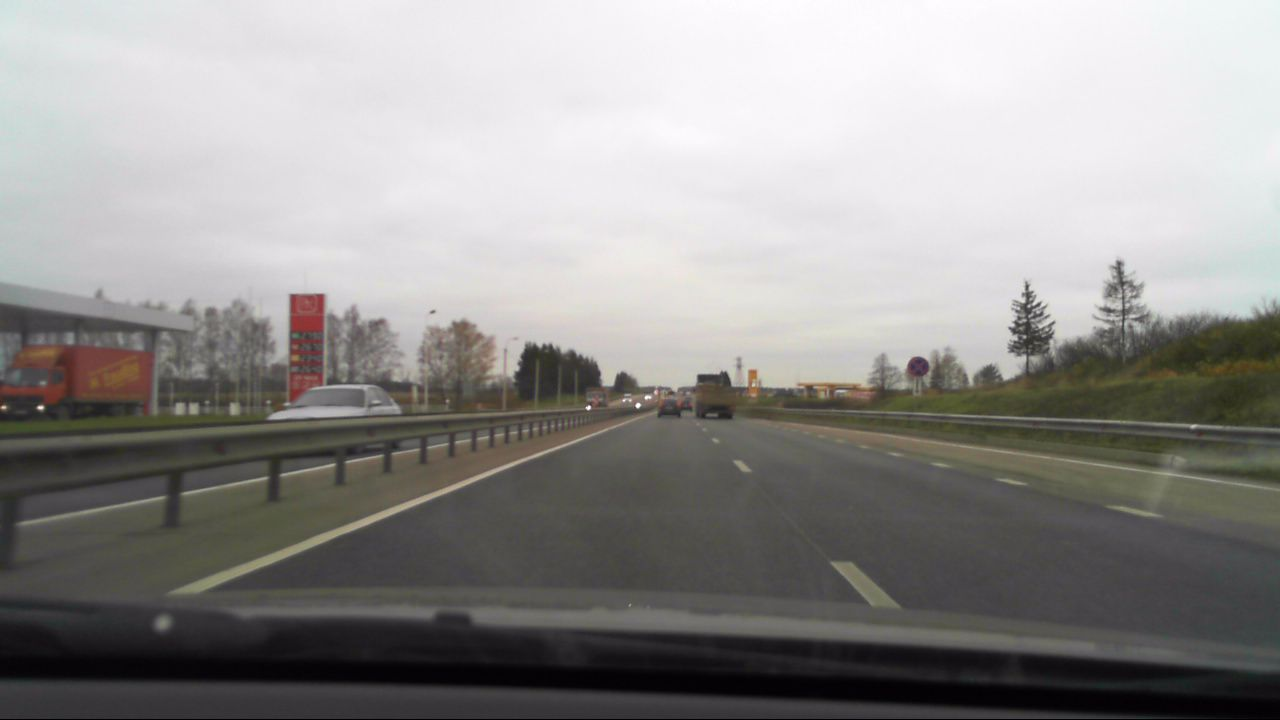No Parking: (906, 353, 932, 375)
